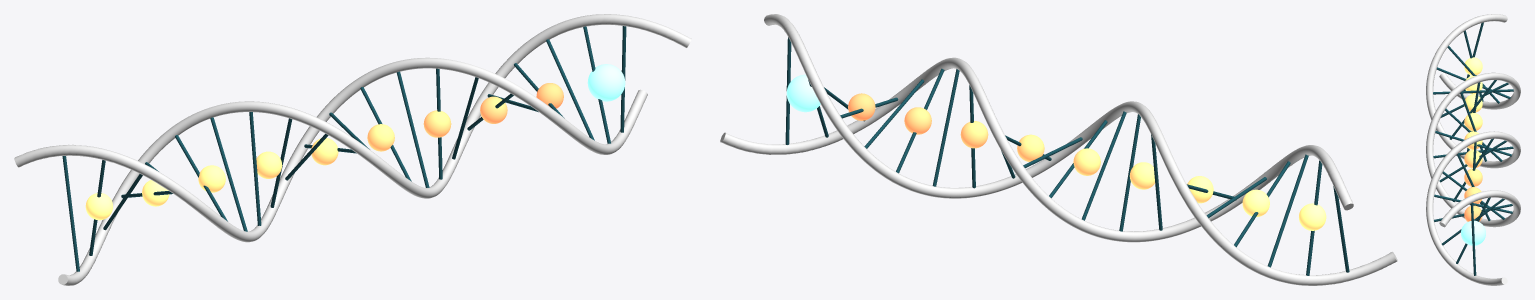
Rendered from helix.glb.
3 views of the same model, side by side, from view 1: azimuth 30°, elevation 25°; view 2: azimuth 150°, elevation 25°; view 3: azimuth 270°, elevation 25° (orthographic). The views are drawn at different scales.
Visible parts, largest first — view 1: StrandA, StrandB, Node9, Node5, Node6, Node0, Node2, Node3, Node7, Node4, Node8, Rung13 (+5 smaller); view 2: StrandB, StrandA, Node9, Node4, Node0, Node7, Node6, Node1, Node5, Node3, Node8, Rung15 (+4 smaller); view 3: StrandA, StrandB, Node9, Node0, Node6, Node3, Rung21, Node5, Node2, Node8, Rung17, Rung4 (+22 smaller).
Part boxes in pixels (box(x1,y1,x2,y2)): StrandA: box(14, 57, 647, 242); StrandB: box(58, 14, 691, 285); Node9: box(587, 64, 625, 101); Node5: box(367, 124, 394, 151); Node6: box(423, 110, 451, 137); Node0: box(85, 193, 112, 220); Node2: box(198, 165, 225, 192); Node3: box(256, 151, 282, 178); Node7: box(480, 96, 507, 123); Node4: box(311, 138, 338, 165); Node8: box(536, 83, 563, 108); Rung13: box(396, 71, 429, 187); StrandB: box(764, 14, 1397, 285); StrandA: box(720, 57, 1353, 242); Node9: box(786, 74, 820, 112); Node4: box(1073, 148, 1100, 175); Node0: box(1299, 203, 1326, 230); Node7: box(904, 107, 931, 134); Node6: box(960, 121, 988, 148); Node1: box(1242, 189, 1269, 216); Node5: box(1017, 134, 1044, 161); Node3: box(1129, 162, 1154, 189); Node8: box(848, 93, 875, 120); Rung15: box(932, 69, 959, 186); StrandA: box(1426, 14, 1520, 285); StrandB: box(1426, 72, 1520, 227); Node9: box(1461, 220, 1485, 245); Node0: box(1464, 57, 1482, 75); Node6: box(1464, 168, 1482, 186); Node3: box(1464, 113, 1482, 131); Rung21: box(1470, 203, 1476, 275); Node5: box(1464, 150, 1482, 168); Node2: box(1464, 94, 1482, 112); Node8: box(1464, 205, 1482, 221); Rung17: box(1434, 194, 1512, 213); Rung4: box(1433, 89, 1513, 94).
Size of the model in its own units: 10.1 by 1.95 by 1.95.
